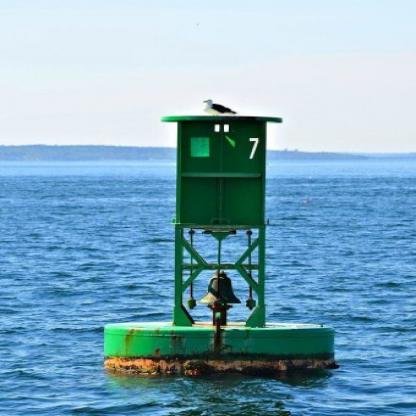buoy: (98, 83, 341, 381)
